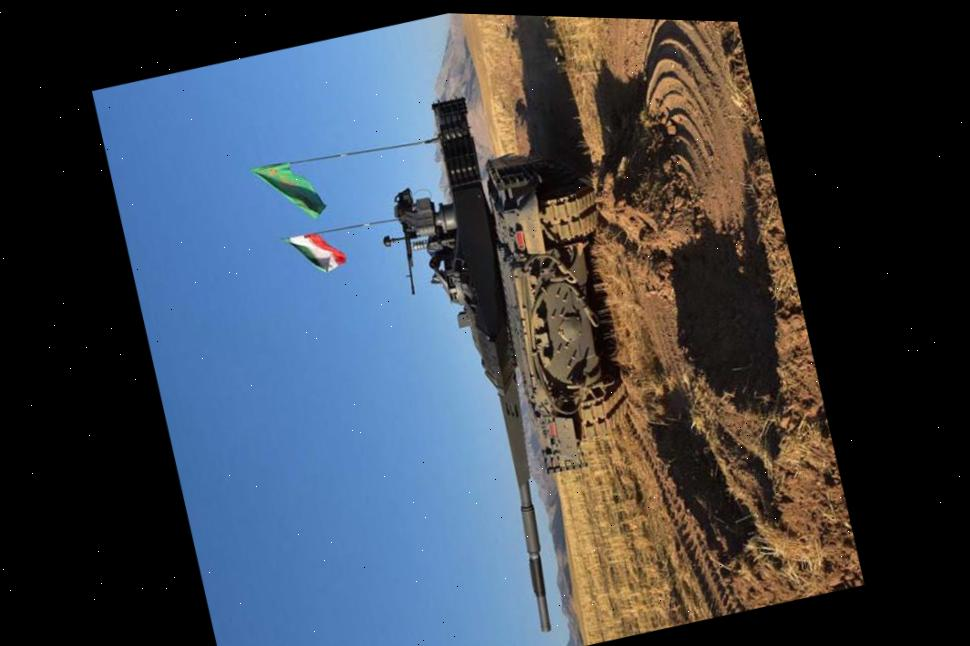tank: (337, 56, 710, 646)
